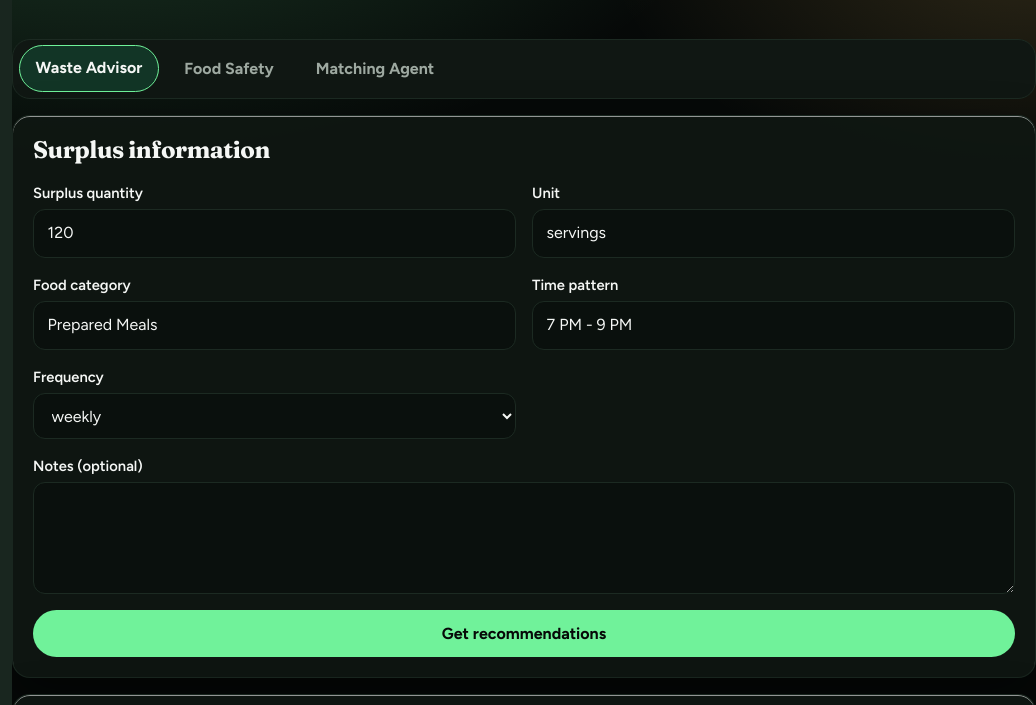
Test: FoodLoop AI workspace › posts surplus context to the advisor and renders structured recommendations
Click the button "Get recommendations".
click(524, 634)  # box [33, 610, 1015, 657]
(page scrolled)
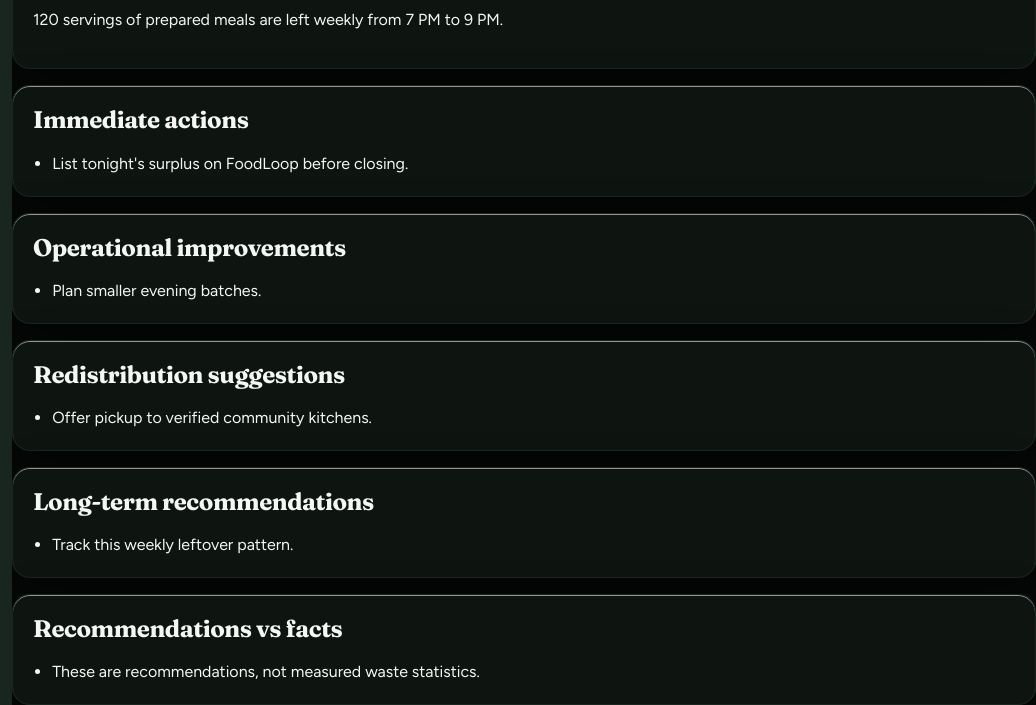
Expected: the text "120 servings of prepared meals" is shown, [33, 10, 503, 29]
Expected: the heading "Immediate actions" is shown, [33, 106, 248, 134]
Expected: the list item "List tonight's surplus on FoodLoop before closing." is shown, [52, 154, 408, 172]
